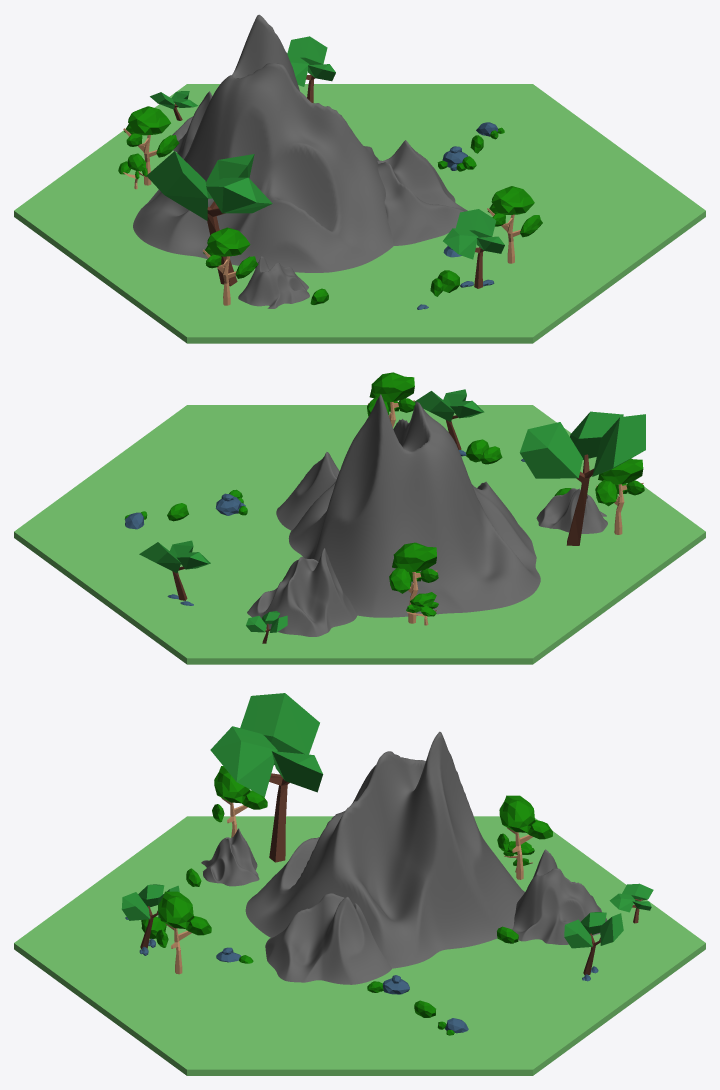
File: Ressource Pierre.fbx
3 renders of one model, top to bottom at view 1: azimuth 30°, elevation 25°; view 2: azimuth 150°, elevation 25°; view 3: azimuth 270°, elevation 25°, orthographic.
Visible parts, largest first — view 1: Cylinder; view 2: Cylinder; view 3: Cylinder.
Boxes of the visible parts, x1,y1,x2,y2 form: Cylinder: (14, 14, 705, 343); Cylinder: (14, 372, 705, 664); Cylinder: (14, 693, 705, 1075).
Bounding box in the file's own units: 1732 × 610 × 2000.
